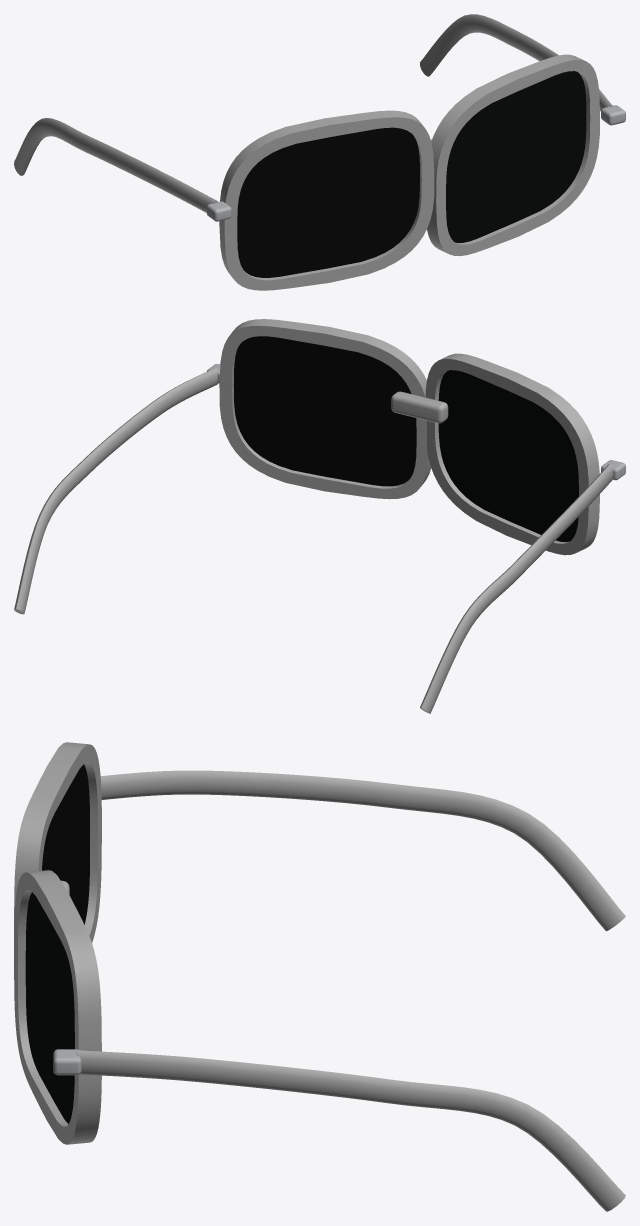
Rendered from SM_Glasses_Shades.glb.
3 renders of one model, top to bottom at view 1: azimuth 30°, elevation 25°; view 2: azimuth 150°, elevation 25°; view 3: azimuth 270°, elevation 25°, orthographic. The views are drawn at different scales.
Visible parts, largest first — view 1: SM_Glasses_Shades; view 2: SM_Glasses_Shades; view 3: SM_Glasses_Shades.
Boxes of the visible parts, x1,y1,x2,y2 form: SM_Glasses_Shades: (14,14,625,290); SM_Glasses_Shades: (14,319,625,713); SM_Glasses_Shades: (14,742,625,1211).
Bounding box in the file's own units: 0.1509 × 0.0558 × 0.1294.
3 materials, 3 textured.
